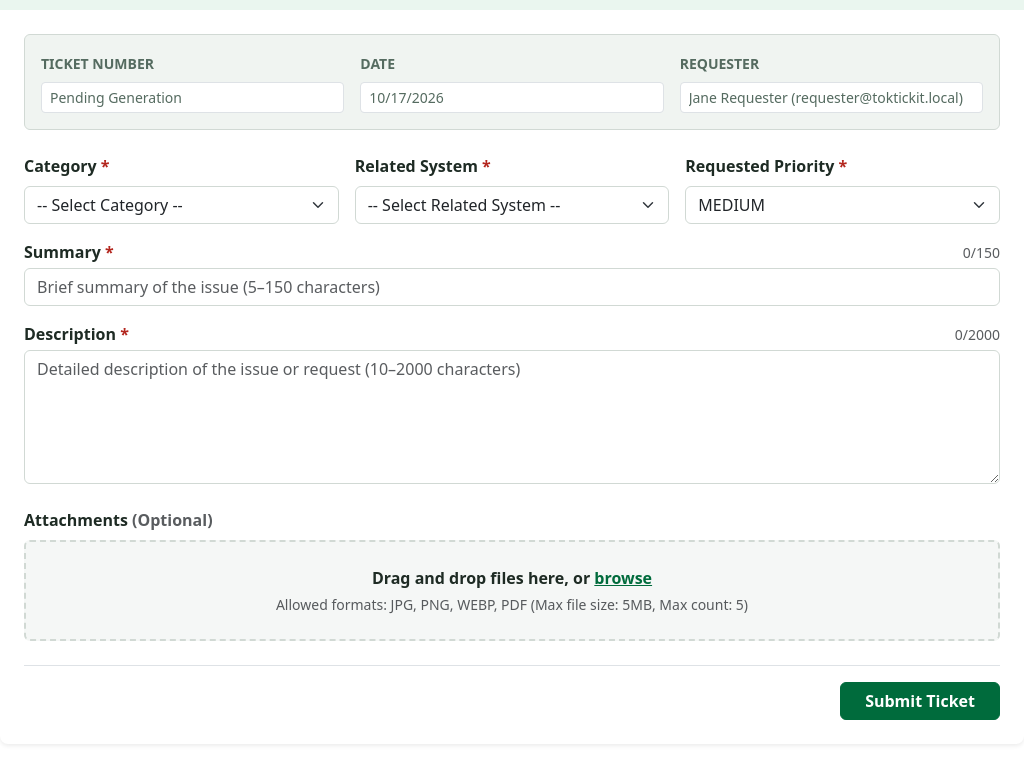
Test: UI-12: Zen Green Styling & Theme Token Tests › UI-12 / AC-22: CreateTicket renders inline validation error messages on empty submit
This screenshot has width=1024, height=758.
(page scrolled)
Expected: the dropdown labelled "Category *" is shown, [24, 186, 339, 224]
Click the button "Submit Ticket": (920, 701) [840, 682, 1000, 720]
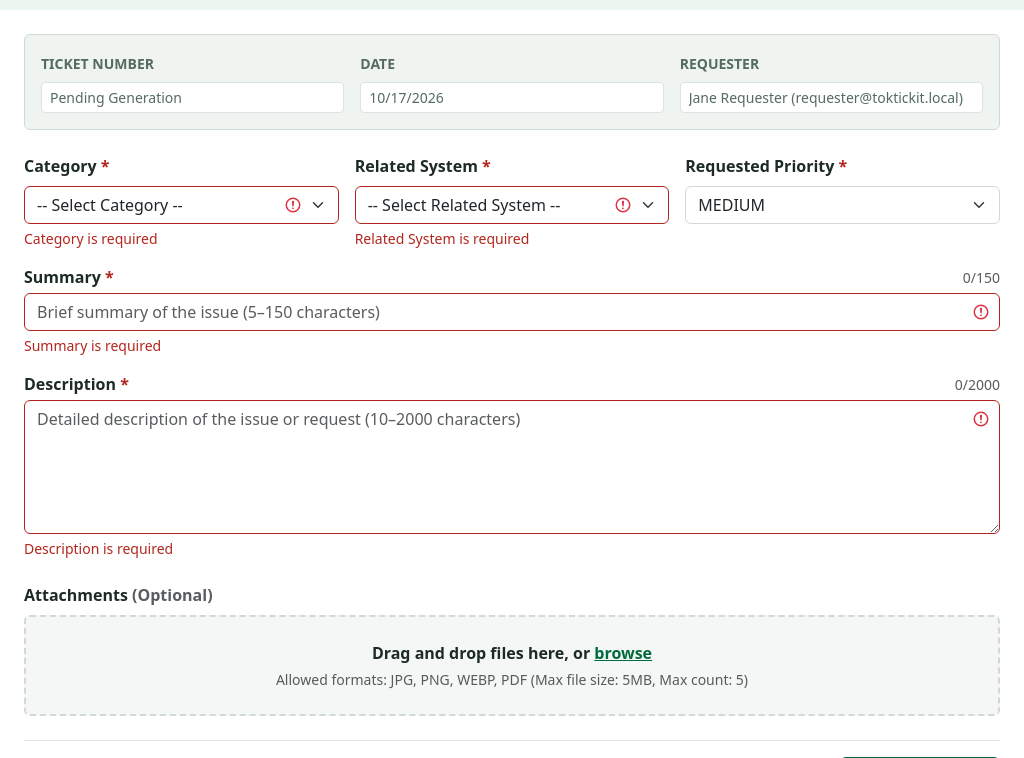
Expected: the text "Summary is required" is shown, [24, 336, 161, 355]
Expected: the text "Category is required" is shown, [24, 229, 158, 248]
